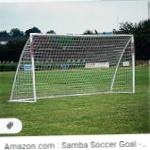goals: (10, 31, 136, 106)
